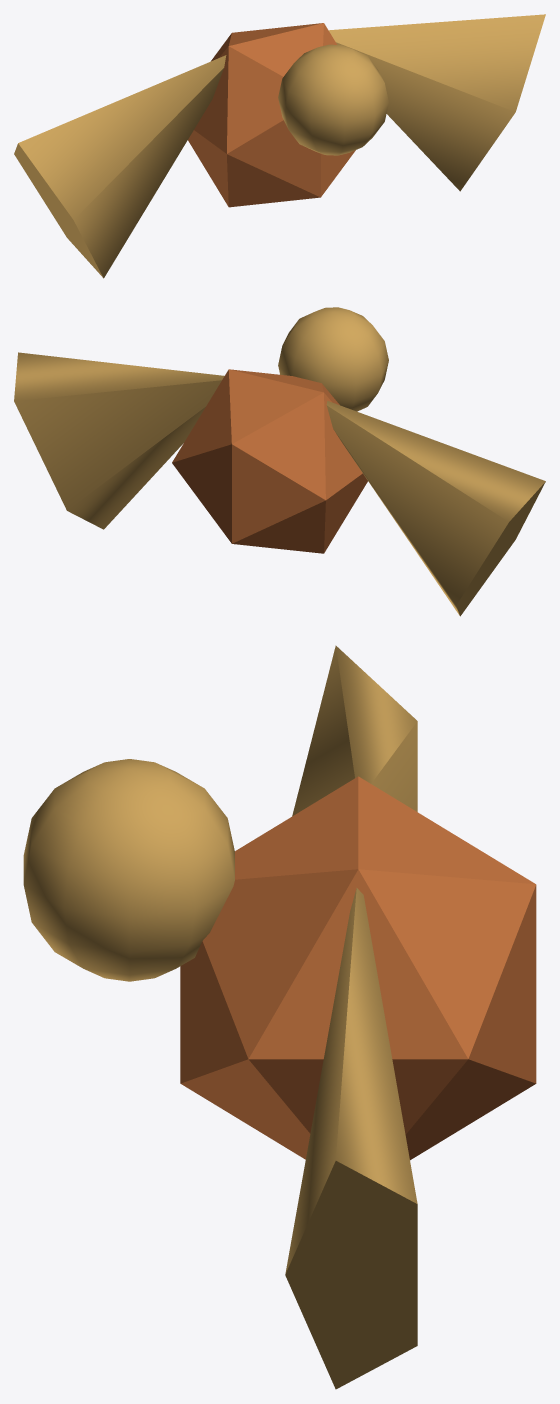
File: sun_vulture.glb
3 views of the same model, one above another, from view 1: azimuth 30°, elevation 25°; view 2: azimuth 150°, elevation 25°; view 3: azimuth 270°, elevation 25° (orthographic). The views are drawn at different scales.
Visible parts, largest first — view 1: wing_-1, wing_1, body_core, head_core; view 2: body_core, wing_1, wing_-1, head_core; view 3: body_core, wing_1, head_core, wing_-1.
Part boxes in pixels (x1,y1,x2,y2): wing_-1: (14,55,226,278); wing_1: (328,14,545,191); body_core: (188,23,355,207); head_core: (278,44,388,155); body_core: (172,369,367,553); wing_1: (14,352,224,529); wing_-1: (326,401,545,616); head_core: (278,307,388,411); body_core: (180,776,536,1160); wing_1: (285,888,417,1389); head_core: (23,759,234,981); wing_-1: (292,645,417,816).
Size of what is drawn, in the model's own units: 4.37 by 1.77 by 1.84.
